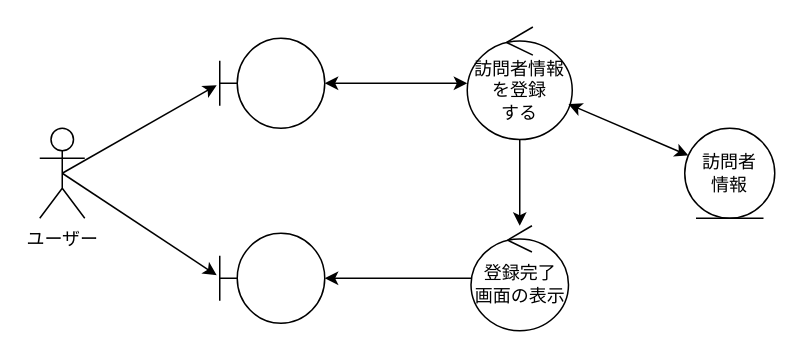
Some shapes in this 801 by 357 pixel diagram are drawn without their labels. The centre of each missing label's shape, as x and y in pixels:
"登録完了画面" belongs at point (271, 277).
"登録画面" belongs at point (271, 82).
